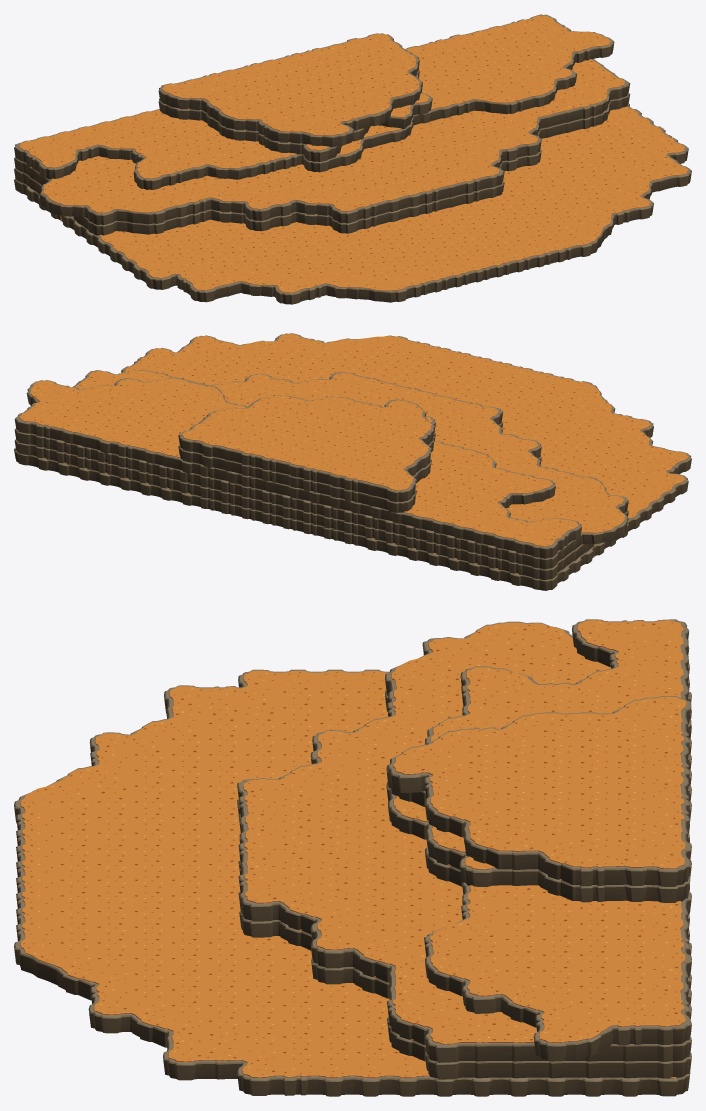
Rendered from Desert.glb.
The picture shows the model from 3 angles, top to bottom: view 1: azimuth 30°, elevation 25°; view 2: azimuth 150°, elevation 25°; view 3: azimuth 270°, elevation 25°; orthographic projection. The views are drawn at different scales.
Visible parts, largest first — view 1: block_c13, block_d6, block_b27, block_c102; view 2: block_c13, block_d6, block_b27, block_c102; view 3: block_c13, block_d6, block_b27, block_c102.
Part boxes in pixels (<box>): block_c13: <box>14,103,691,304</box>; block_d6: <box>14,59,630,235</box>; block_b27: <box>14,14,614,189</box>; block_c102: <box>158,33,432,161</box>; block_c13: <box>14,333,691,590</box>; block_d6: <box>14,370,628,579</box>; block_b27: <box>14,378,581,558</box>; block_c102: <box>178,395,435,512</box>; block_c13: <box>14,669,691,1096</box>; block_d6: <box>237,621,691,1079</box>; block_b27: <box>386,619,691,1061</box>; block_c102: <box>386,696,691,902</box>.
Size of the model in its own units: 56.31 by 6.05 by 36.56.
Materials: 2 (2 with a texture image).
